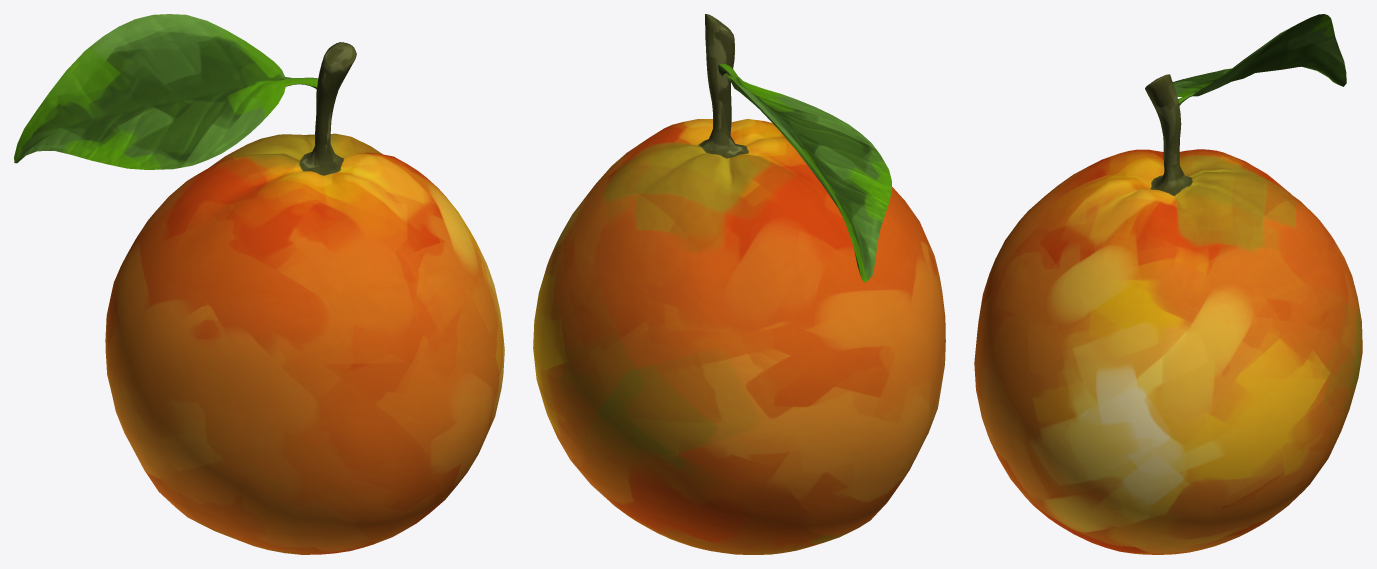
File: orange.glb
The picture shows the model from 3 angles, left to right: view 1: azimuth 30°, elevation 25°; view 2: azimuth 150°, elevation 25°; view 3: azimuth 270°, elevation 25°; orthographic projection. The views are drawn at different scales.
Visible parts, largest first — view 1: node_id57; view 2: node_id57; view 3: node_id57.
Part boxes in pixels (left/top/right/bottom): node_id57: left=14, top=14, right=504, bottom=554; node_id57: left=533, top=14, right=945, bottom=554; node_id57: left=974, top=14, right=1362, bottom=554.
Size of the model in its own units: 0.4179 by 0.512 by 0.3744.
1 material, 1 textured.
